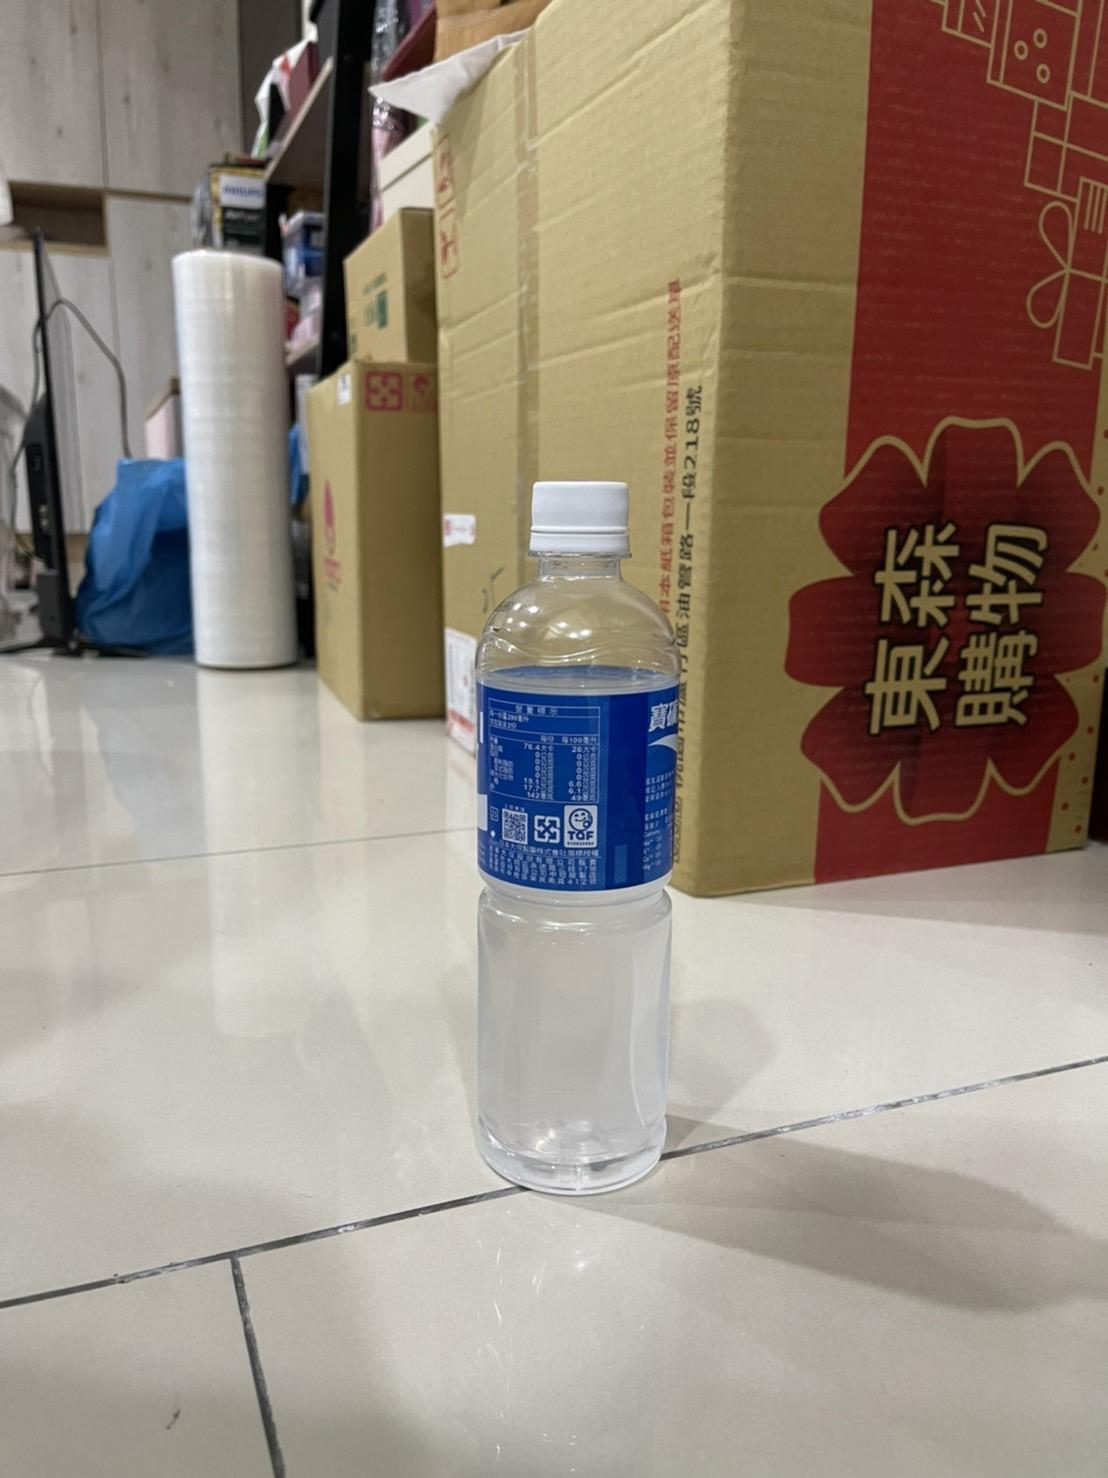bottle: (0, 93, 148, 112)
